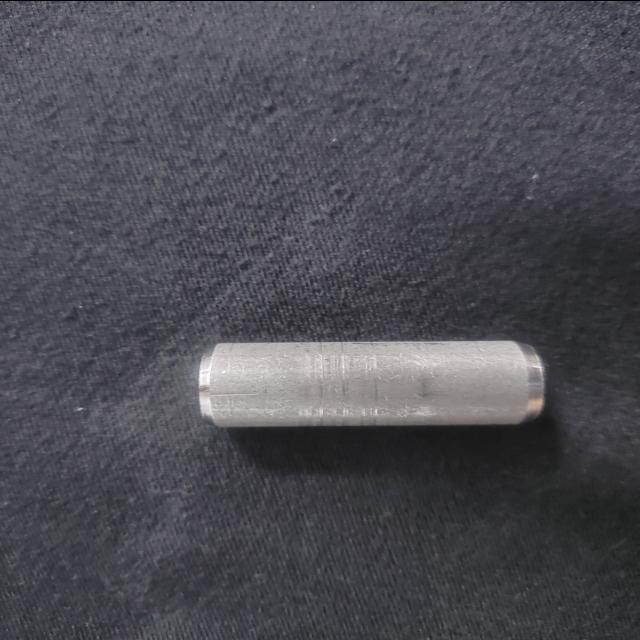Broken: (193, 337, 551, 427)
